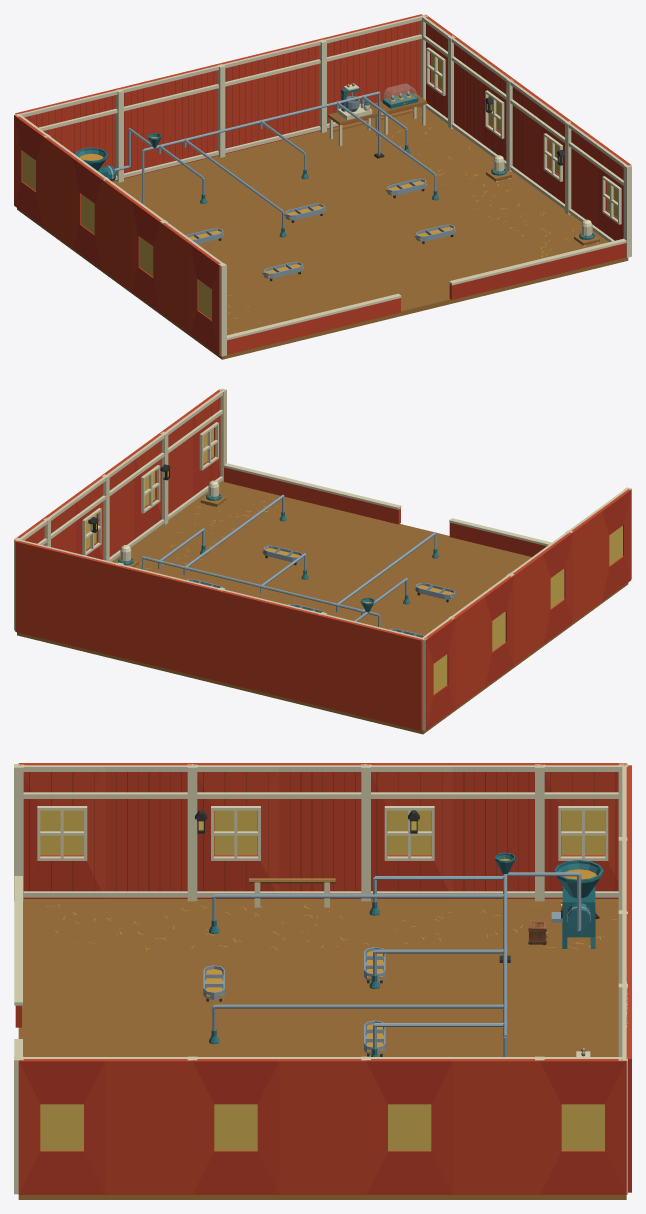
The model's file is CoopInterior_Lv4.fbx.
3 views of the same model, one above another, from view 1: azimuth 30°, elevation 25°; view 2: azimuth 150°, elevation 25°; view 3: azimuth 270°, elevation 25° (orthographic). The views are drawn at different scales.
Parts seen in each view (by area): view 1: Floor.004, FrontCutaway_2mDoor.004, N01_Wall_2m.052, N01_Wall_2m.050, N01_Wall_2m.051, N01_Wall_2m.049, N01_Wall_2m.054, N01_Wall_2m.053, N01_WindowWall_2m.025, ConnectedPipeNetwork.002, N01_Wall_2m.048, N01_WindowWall_2m.027 (+26 smaller); view 2: Floor.004, FrontCutaway_2mDoor.004, N01_Wall_2m.047, N01_Wall_2m.051, N01_Wall_2m.052, N01_Wall_2m.048, N01_Wall_2m.049, N01_Wall_2m.050, N01_Wall_2m.054, N01_Wall_2m.053, N01_WindowWall_2m.028, N01_WindowWall_2m.026 (+15 smaller); view 3: Floor.004, N01_Wall_2m.058, N01_Wall_2m.059, N01_WindowWall_2m.029, N01_WindowWall_2m.030, N01_Wall_2m.060, N01_WindowWall_2m.031, N01_WindowWall_2m.032, N01_Wall_2m.055, N01_WindowWall_2m.025, N01_Wall_2m.056, N01_WindowWall_2m.026 (+13 smaller).
Boxes of the visible parts, x1,y1,x2,y2 form: Floor.004: (17,106,628,359); FrontCutaway_2mDoor.004: (227,238,626,354); N01_Wall_2m.052: (269,39,320,142); N01_Wall_2m.050: (168,63,219,167); N01_Wall_2m.051: (219,51,272,153); N01_Wall_2m.049: (117,76,170,178); N01_Wall_2m.054: (371,14,422,117); N01_Wall_2m.053: (320,26,373,128); N01_WindowWall_2m.025: (190,242,222,355); ConnectedPipeNetwork.002: (114,91,436,228); N01_Wall_2m.048: (66,88,117,181); N01_WindowWall_2m.027: (72,157,105,269); Floor.004: (17,482,628,734); FrontCutaway_2mDoor.004: (223,463,551,556); N01_Wall_2m.047: (370,626,423,730); N01_Wall_2m.051: (167,576,219,681); N01_Wall_2m.052: (116,564,170,668); N01_Wall_2m.048: (320,614,373,718); N01_Wall_2m.049: (269,601,320,705); N01_Wall_2m.050: (218,589,271,693); N01_Wall_2m.054: (15,540,68,644); N01_Wall_2m.053: (66,551,117,656); N01_WindowWall_2m.028: (423,618,455,730); N01_WindowWall_2m.026: (538,532,572,644); Floor.004: (18,899,626,1199); N01_Wall_2m.058: (105,1057,192,1194); N01_Wall_2m.059: (279,1057,366,1194); N01_WindowWall_2m.029: (18,1057,105,1194); N01_WindowWall_2m.030: (192,1057,279,1194); N01_Wall_2m.060: (453,1057,539,1194); N01_WindowWall_2m.031: (366,1057,452,1194); N01_WindowWall_2m.032: (540,1057,626,1194); N01_Wall_2m.055: (105,763,192,898); N01_WindowWall_2m.025: (18,763,105,898); N01_Wall_2m.056: (279,763,366,898); N01_WindowWall_2m.026: (192,763,279,898).
Size of the model in its own units: 16.24 by 3.58 by 14.23.
